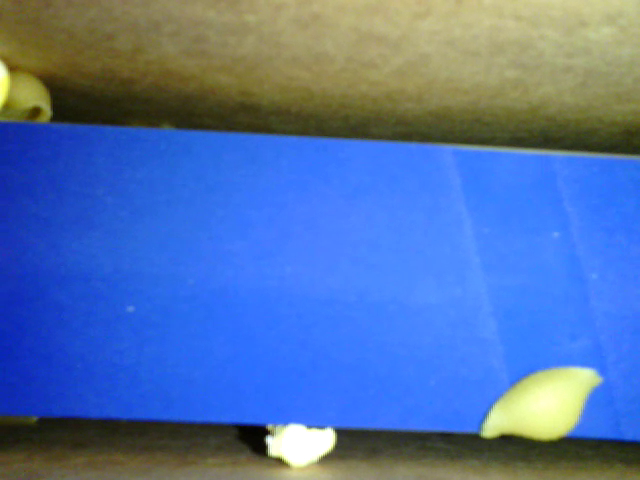shell: (481, 364, 603, 444), (1, 68, 56, 123)
